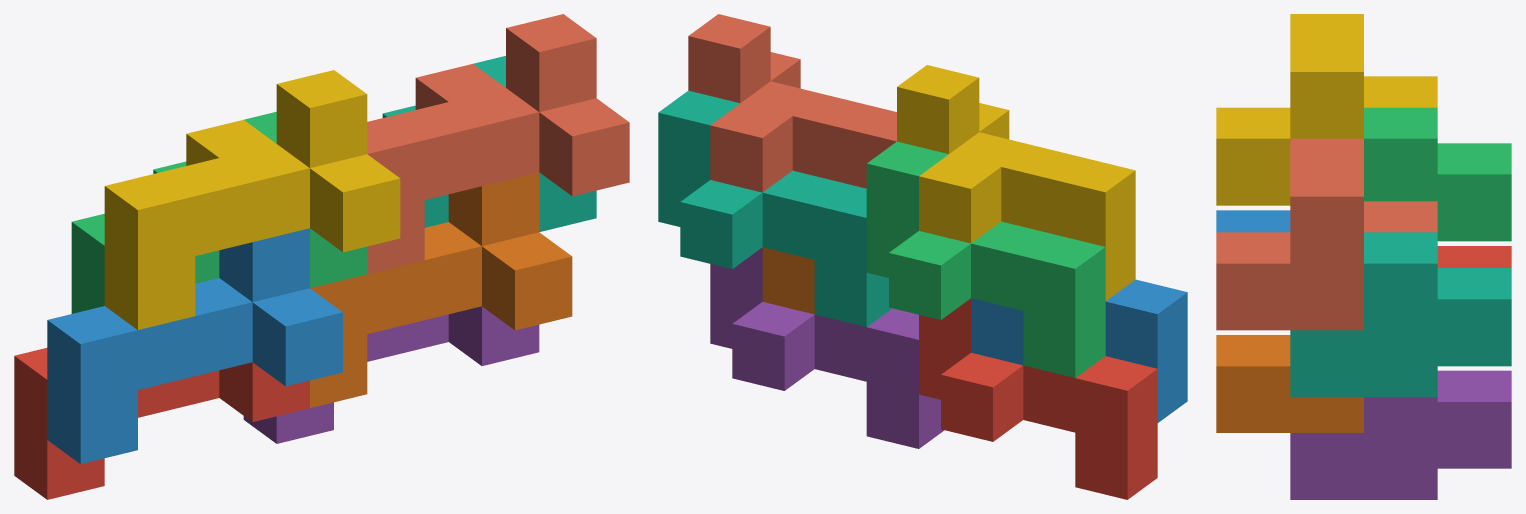
The model's file is tiling.obj.
3 views of the same model, side by side, from view 1: azimuth 30°, elevation 25°; view 2: azimuth 150°, elevation 25°; view 3: azimuth 270°, elevation 25° (orthographic). The views are drawn at different scales.
Visible parts, largest first — view 1: copy_1_domain_4, copy_1_domain_8, copy_1_domain_2, copy_1_domain_6, copy_1_domain_1, copy_1_domain_5, copy_1_domain_3, copy_1_domain_7; view 2: copy_1_domain_3, copy_1_domain_4, copy_1_domain_7, copy_1_domain_1, copy_1_domain_8, copy_1_domain_5, copy_1_domain_2, copy_1_domain_6; view 3: copy_1_domain_7, copy_1_domain_8, copy_1_domain_5, copy_1_domain_4, copy_1_domain_3, copy_1_domain_6, copy_1_domain_2, copy_1_domain_1.
Part boxes in pixels (bbox=[...]): copy_1_domain_4: bbox=[104, 70, 400, 329]; copy_1_domain_8: bbox=[367, 14, 629, 273]; copy_1_domain_2: bbox=[47, 228, 342, 463]; copy_1_domain_6: bbox=[310, 172, 572, 407]; copy_1_domain_1: bbox=[14, 348, 309, 499]; copy_1_domain_5: bbox=[243, 306, 539, 443]; copy_1_domain_3: bbox=[71, 111, 367, 313]; copy_1_domain_7: bbox=[382, 56, 596, 231]; copy_1_domain_3: bbox=[866, 141, 1105, 377]; copy_1_domain_4: bbox=[897, 65, 1135, 300]; copy_1_domain_7: bbox=[658, 90, 891, 326]; copy_1_domain_1: bbox=[919, 298, 1157, 499]; copy_1_domain_8: bbox=[688, 14, 896, 192]; copy_1_domain_5: bbox=[710, 247, 944, 448]; copy_1_domain_2: bbox=[971, 279, 1187, 422]; copy_1_domain_6: bbox=[762, 247, 814, 314]; copy_1_domain_7: bbox=[1290, 232, 1511, 397]; copy_1_domain_8: bbox=[1216, 138, 1437, 330]; copy_1_domain_5: bbox=[1290, 370, 1511, 499]; copy_1_domain_4: bbox=[1216, 14, 1437, 205]; copy_1_domain_3: bbox=[1364, 107, 1511, 241]; copy_1_domain_6: bbox=[1216, 335, 1363, 432]; copy_1_domain_2: bbox=[1216, 210, 1290, 232]; copy_1_domain_1: bbox=[1437, 246, 1511, 267].
Size of the model in its own units: 9 by 6 by 4.
